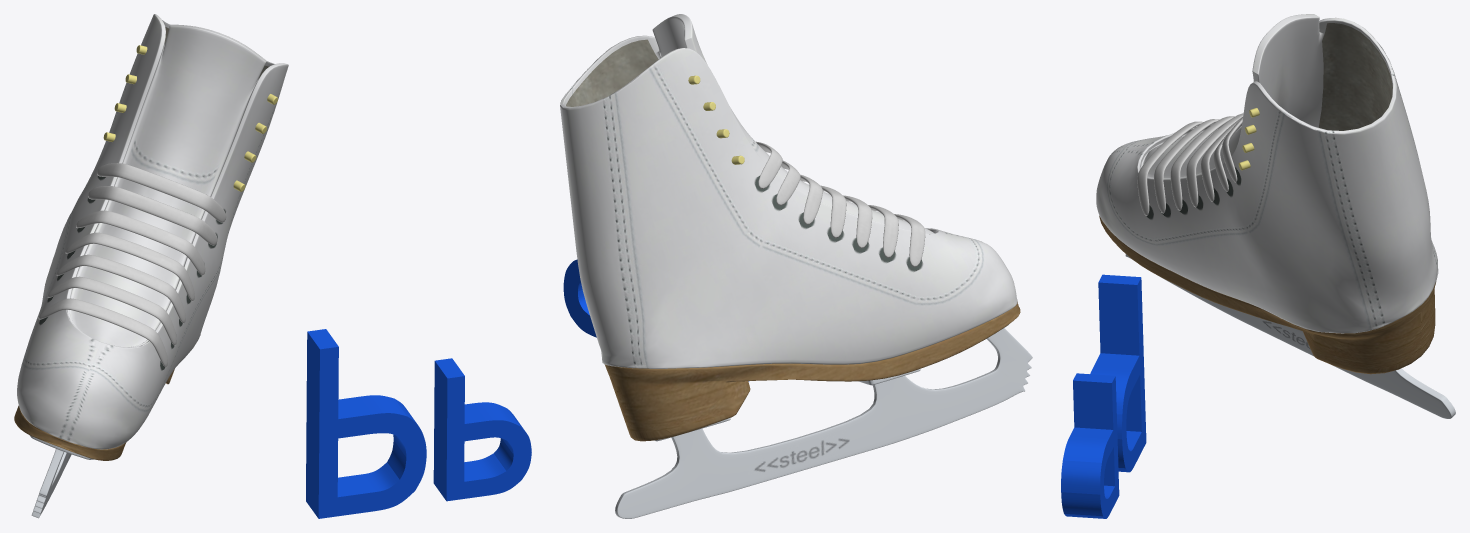
The model's file is myagkyi.glb.
The picture shows the model from 3 angles, left to right: view 1: azimuth 30°, elevation 25°; view 2: azimuth 150°, elevation 25°; view 3: azimuth 270°, elevation 25°; orthographic projection. The views are drawn at different scales.
Visible parts, largest first — view 1: 10513_Ice_Skates_L3, Mesh_0.033; view 2: 10513_Ice_Skates_L3, Mesh_0.033; view 3: 10513_Ice_Skates_L3, Mesh_0.033.
Boxes of the visible parts, bbox=[...] form: 10513_Ice_Skates_L3: bbox=[14, 14, 288, 518]; Mesh_0.033: bbox=[306, 329, 531, 518]; 10513_Ice_Skates_L3: bbox=[560, 14, 1032, 518]; Mesh_0.033: bbox=[563, 259, 749, 381]; 10513_Ice_Skates_L3: bbox=[1096, 14, 1455, 418]; Mesh_0.033: bbox=[1061, 274, 1146, 518].
Size of the model in its own units: 26.56 by 22.99 by 20.04.
Materials: 2 (1 with a texture image).
